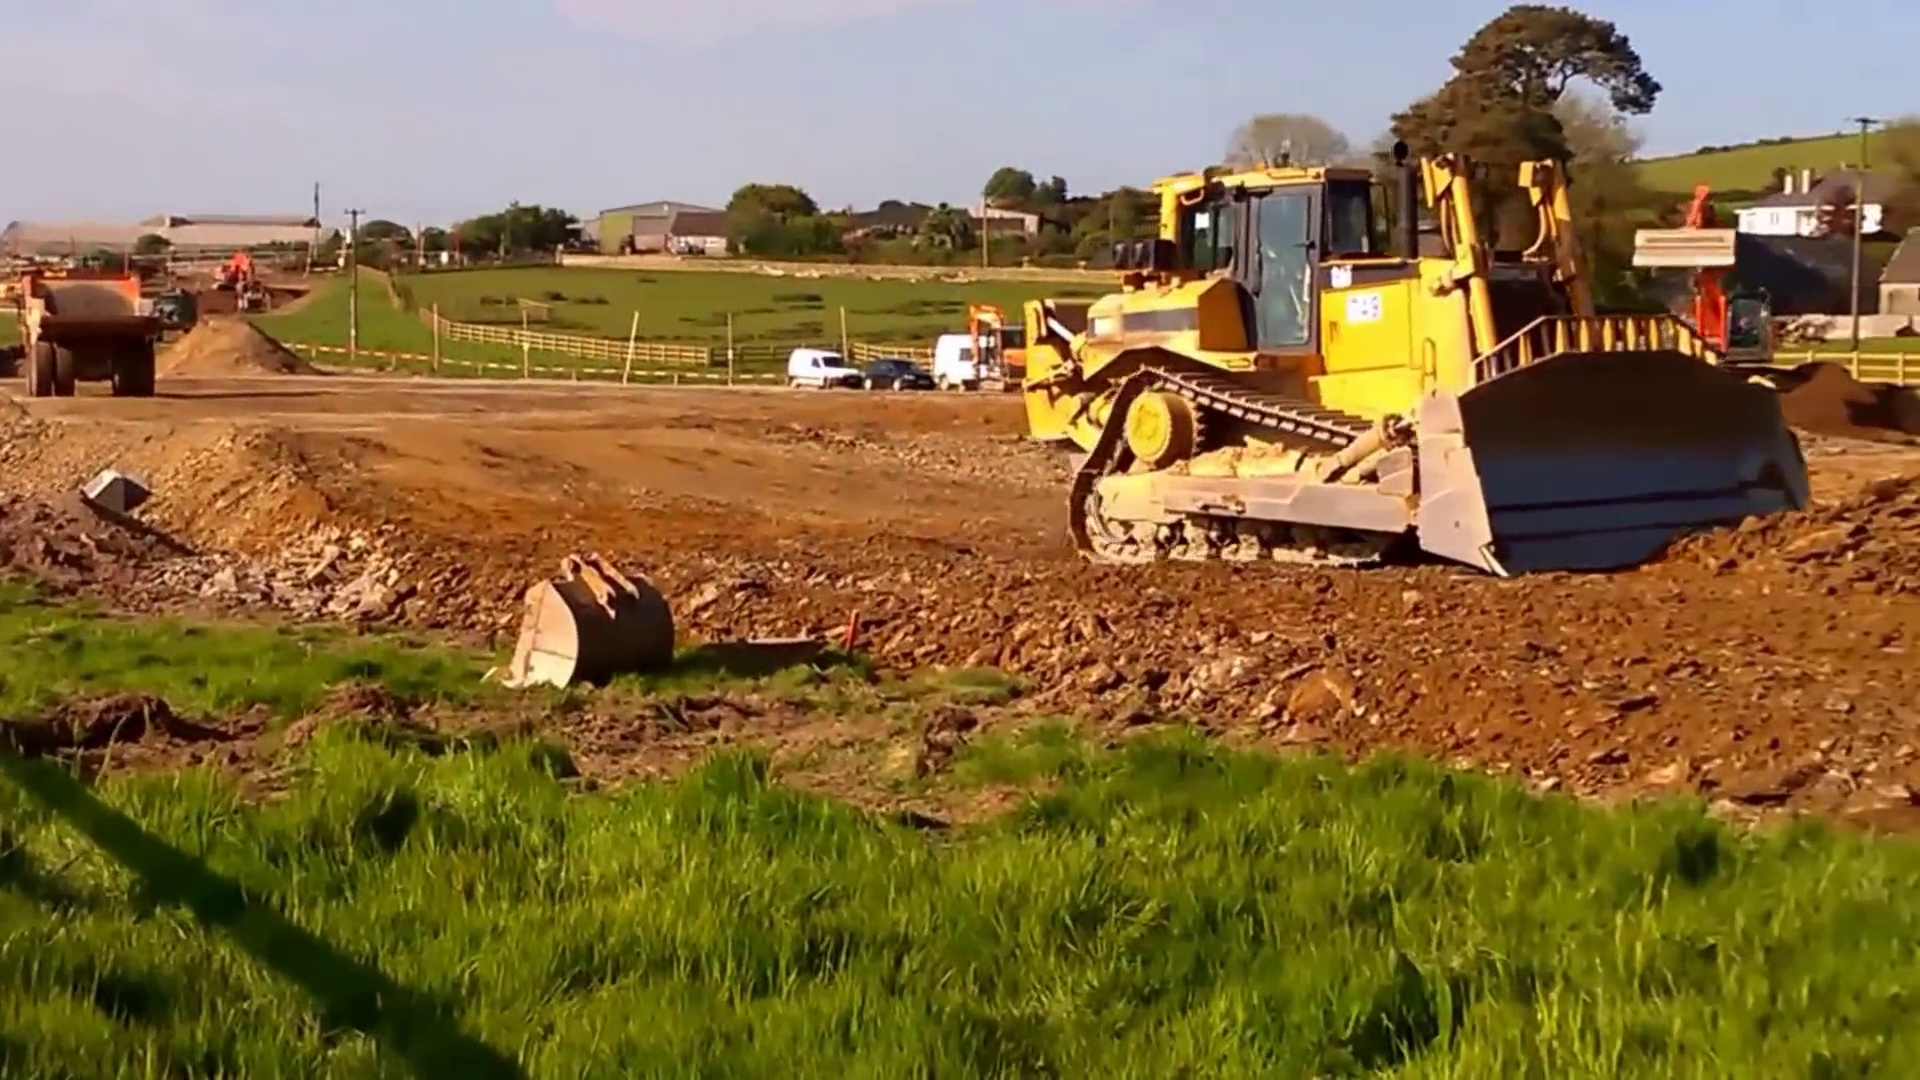bulldozer: (1025, 156, 1820, 578)
car: (934, 338, 992, 386), (789, 347, 860, 386), (865, 357, 930, 394)
dumper: (16, 262, 165, 390)
excavator: (963, 295, 1033, 386), (204, 249, 270, 316)
